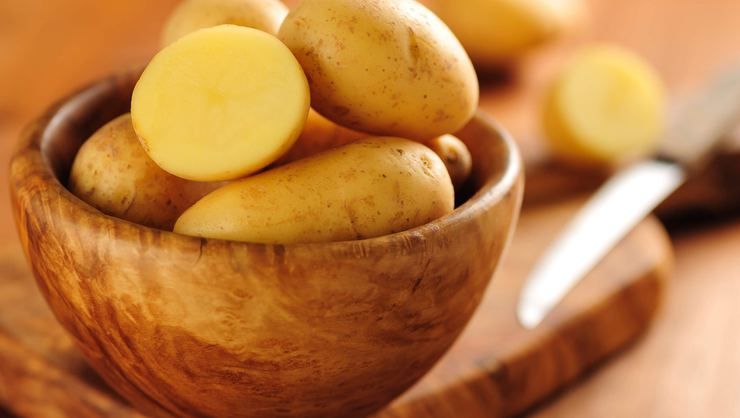Potato: (259, 1, 496, 145)
